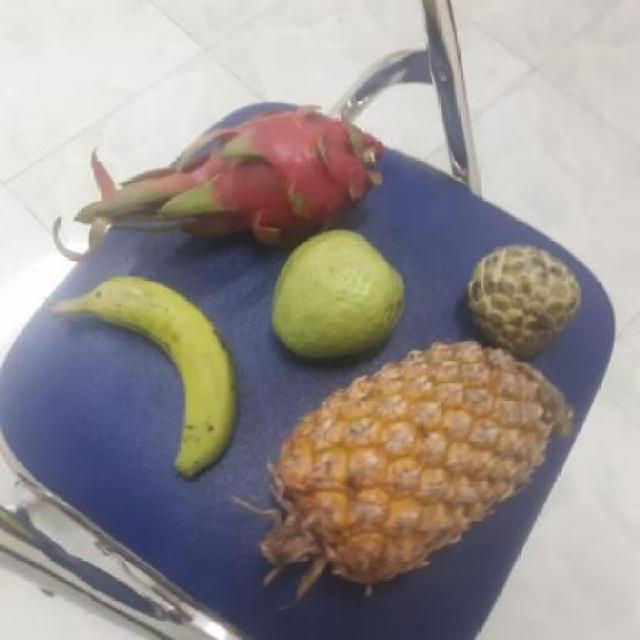banana: (70, 280, 232, 471)
dragon fruit: (160, 98, 382, 240)
guava: (264, 227, 408, 361)
pineapple: (258, 348, 556, 574)
sugar apple: (462, 246, 582, 360)
